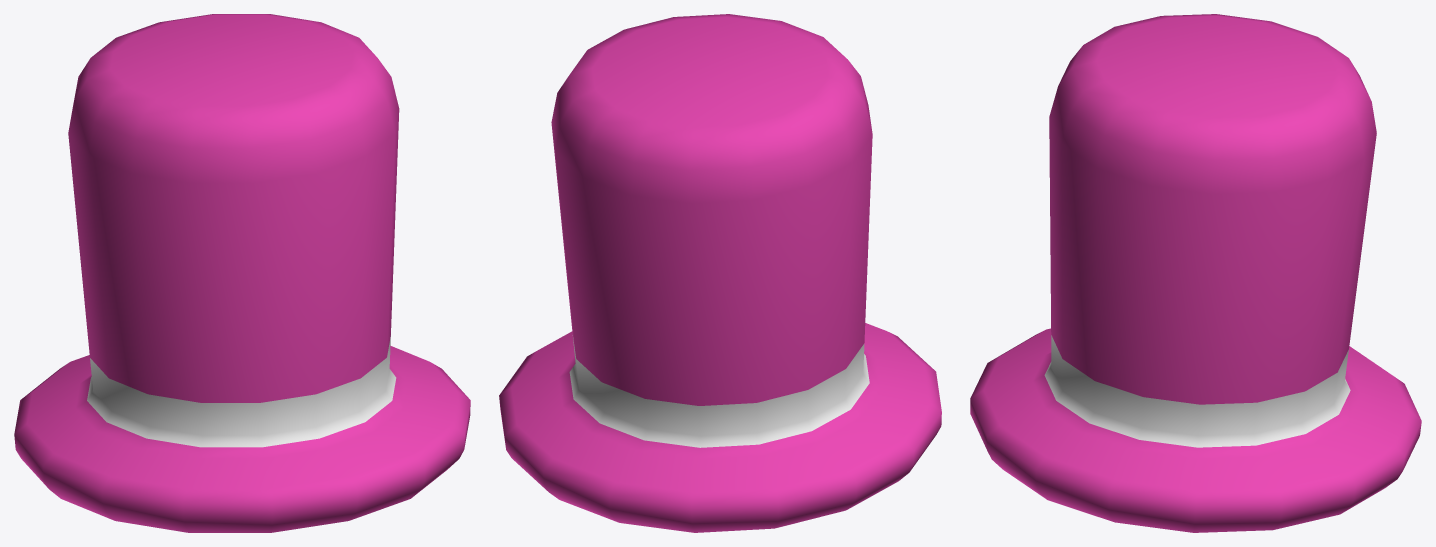
The model's file is tophat.fbx.
3 renders of one model, left to right at view 1: azimuth 30°, elevation 25°; view 2: azimuth 150°, elevation 25°; view 3: azimuth 270°, elevation 25°, orthographic. The views are drawn at different scales.
Parts seen in each view (by area): view 1: Cylinder.069; view 2: Cylinder.069; view 3: Cylinder.069.
Part boxes in pixels (x1,y1,x2,y2): Cylinder.069: (14, 14, 470, 532); Cylinder.069: (499, 14, 941, 532); Cylinder.069: (970, 14, 1421, 532).
Bounding box in the file's own units: 135 × 131 × 135.
